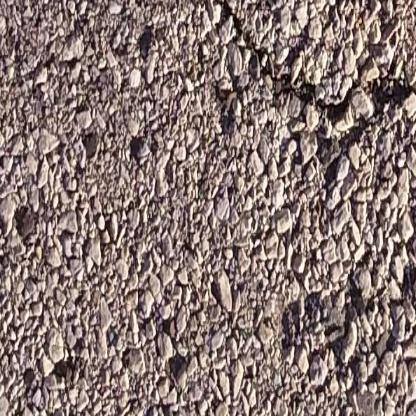Cracks: (176, 0, 416, 156)
